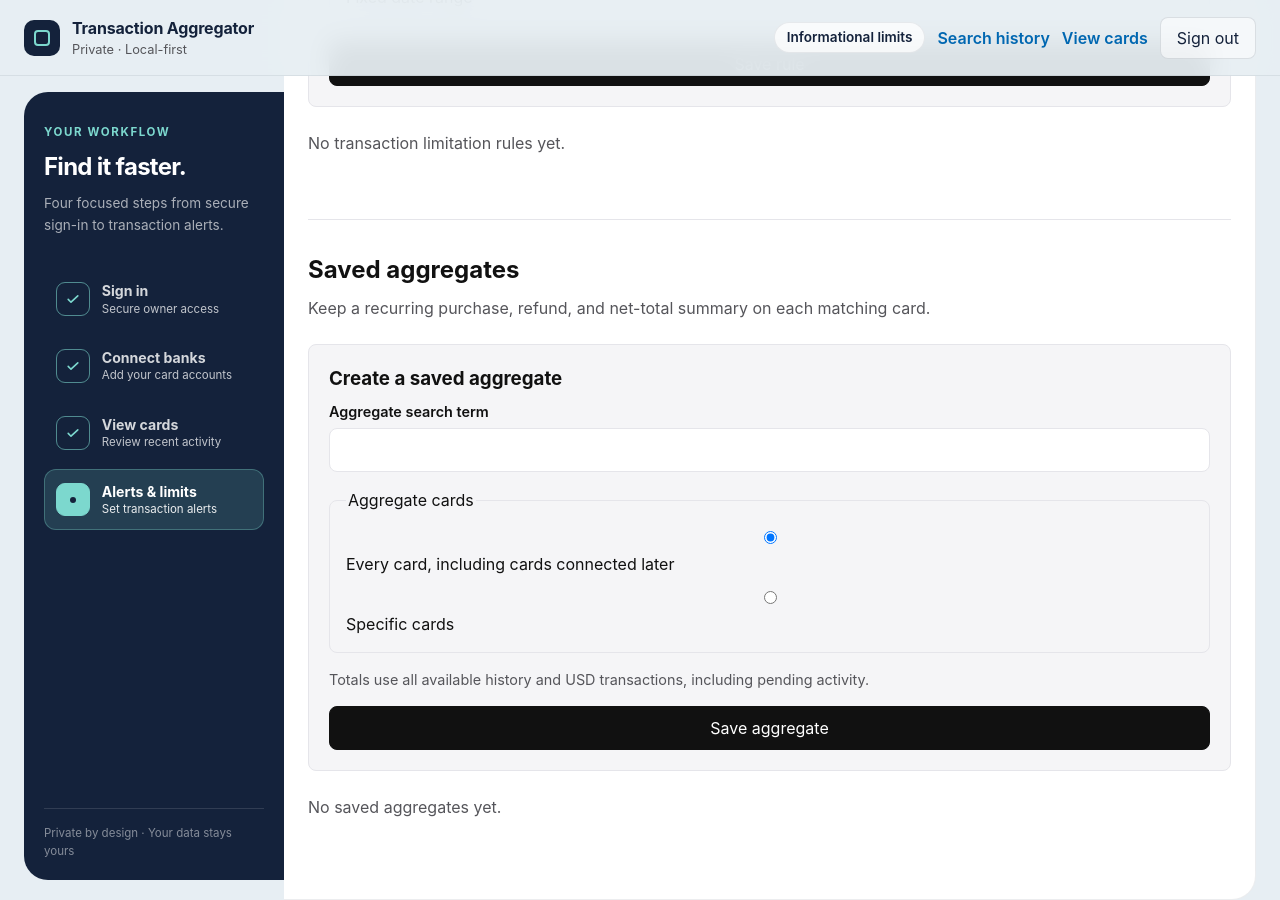
Test case: saved aggregate management › requires a card for selected-card scope
(page scrolled)
Step 1. Type "Paze" into the field labelled "Aggregate search term" → (770,450), box x1=329 y1=428 x2=1210 y2=472
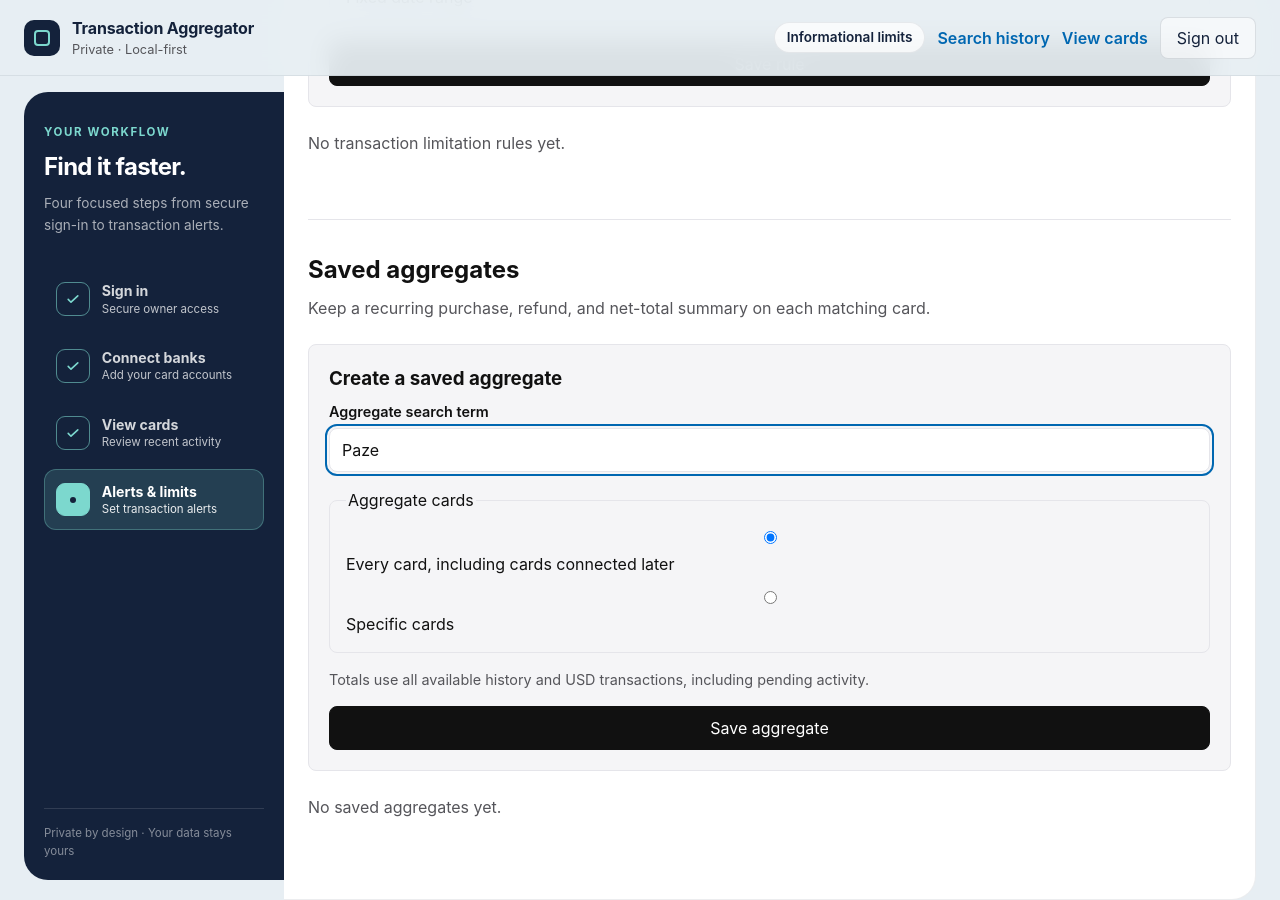
Step 2. Click the radio button labelled "Specific cards" → (770,597), box x1=351 y1=591 x2=1190 y2=604
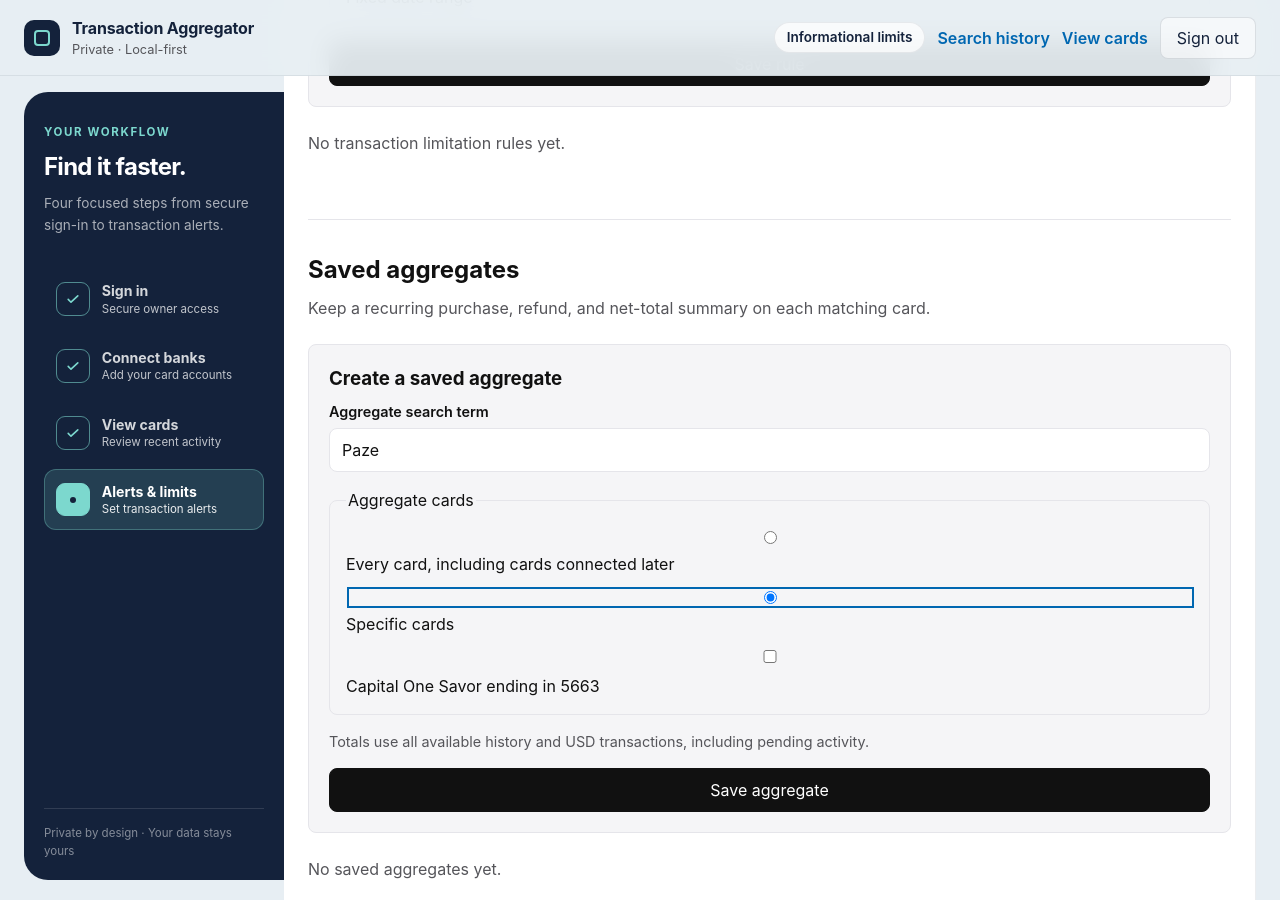
Step 3. Click the button "Save aggregate" → (770,790), box x1=329 y1=768 x2=1210 y2=812
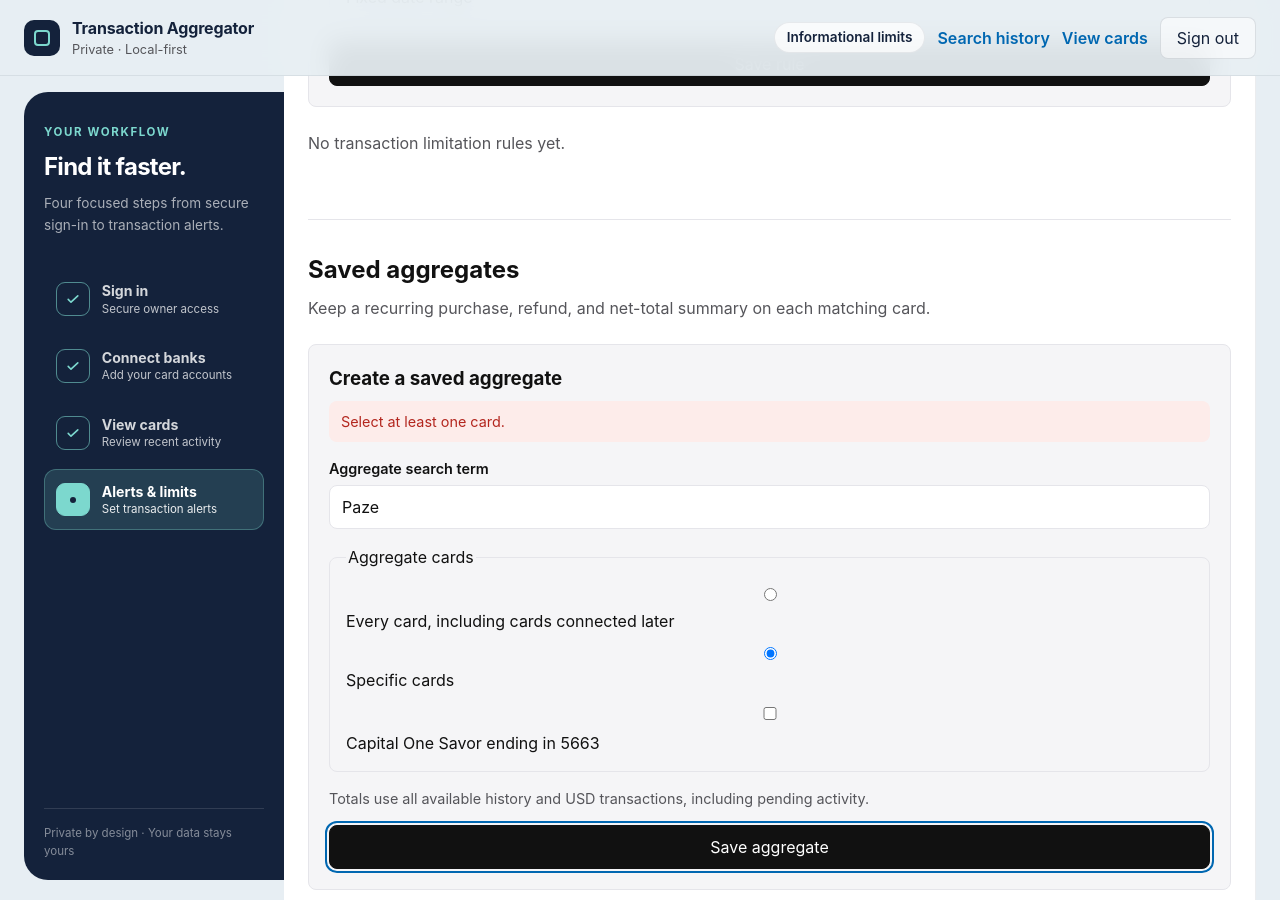
Expected: the message shows "Select at least one card", x1=341 y1=413 x2=505 y2=430
